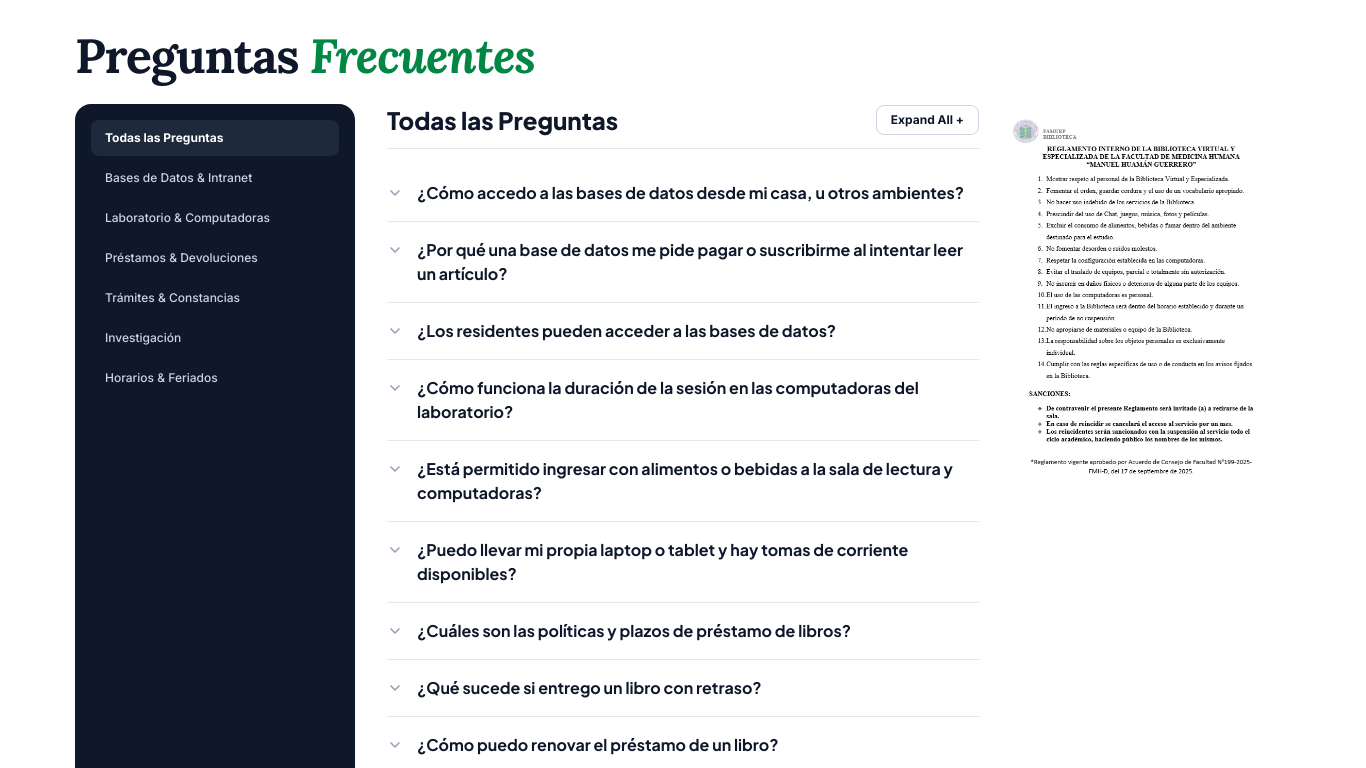
FaqPage and FAQ Data › expands and collapses an accordion question on click
The image size is (1366, 768).
Click the button "¿Cómo accedo a las bases de datos desde mi casa, u otros ambientes?" at (683,193), box [387, 181, 979, 205]
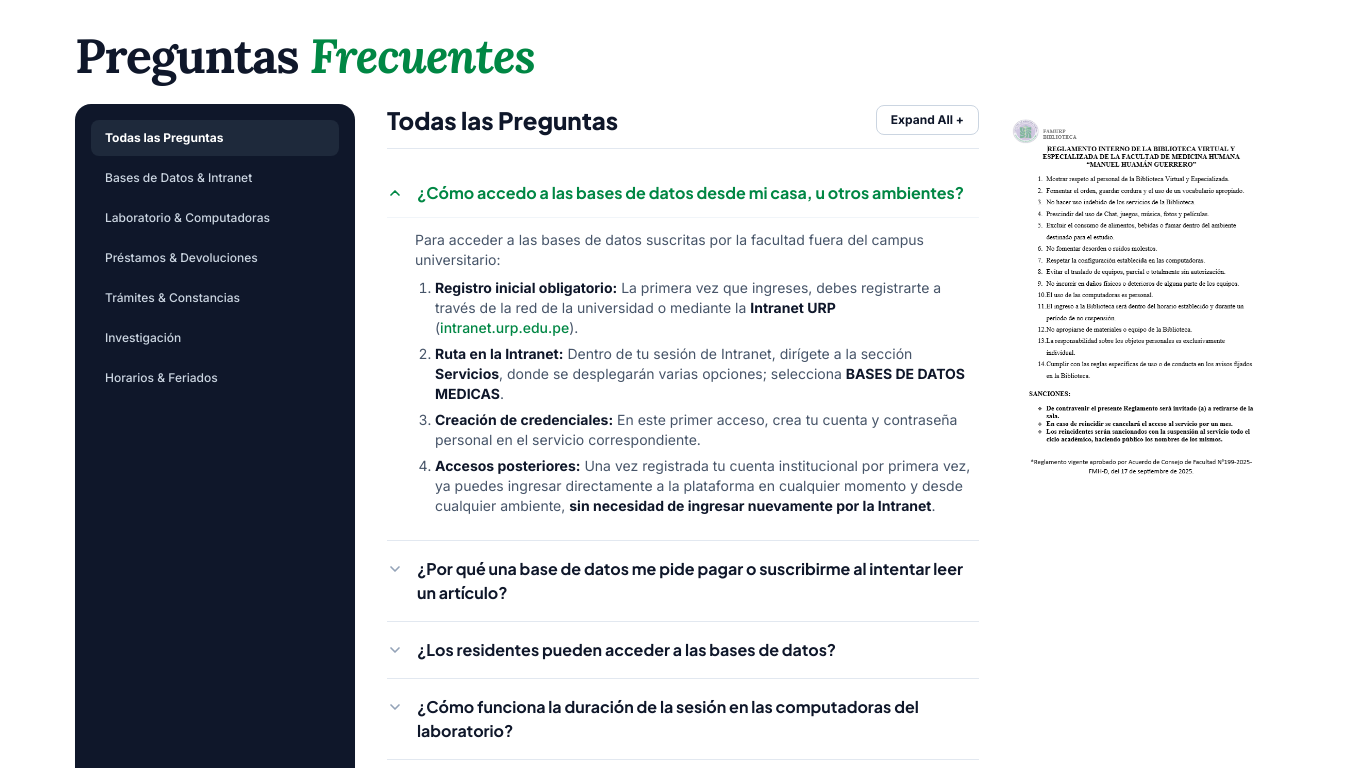
Expected: the button "¿Cómo accedo a las bases de datos desde mi casa, u otros ambientes?" is expanded
Click the button "¿Cómo accedo a las bases de datos desde mi casa, u otros ambientes?" at (683,193), box [387, 181, 979, 205]
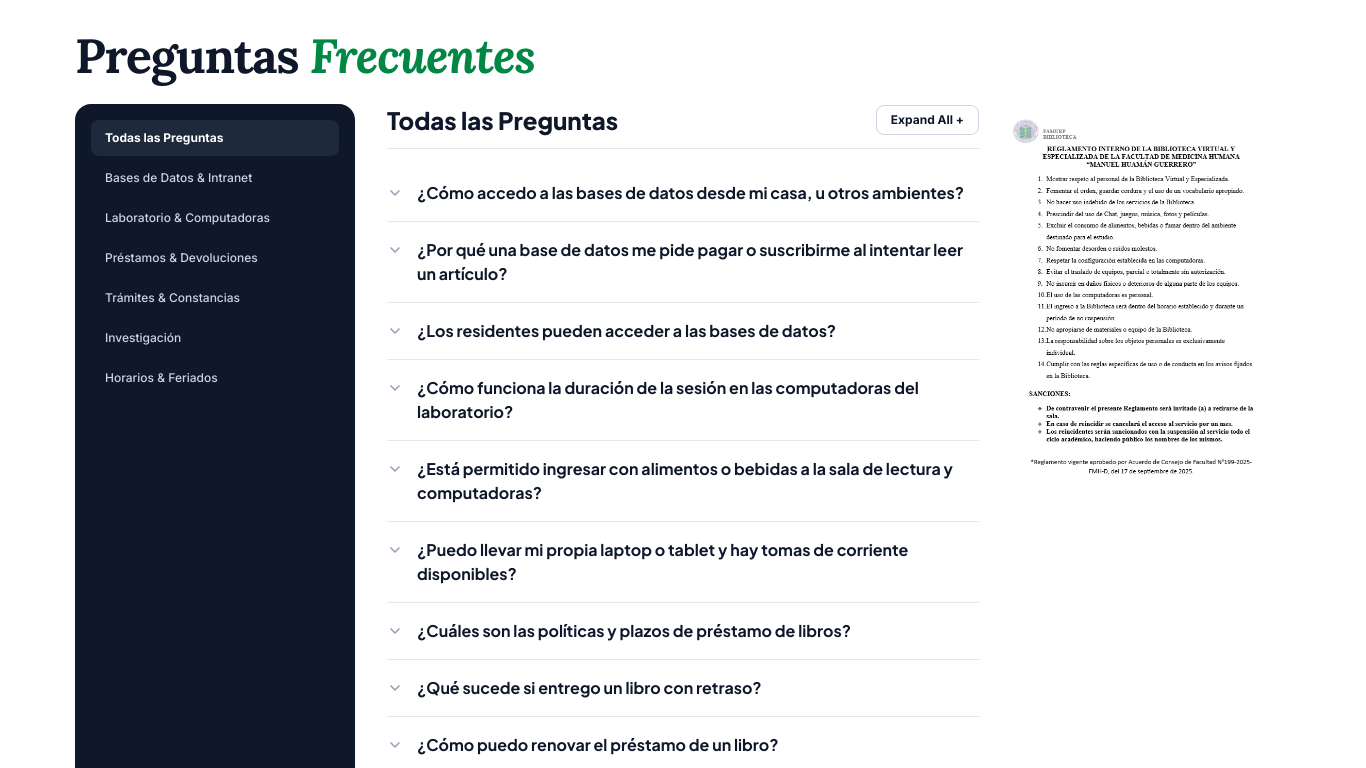
Expected: the button "¿Cómo accedo a las bases de datos desde mi casa, u otros ambientes?" is collapsed, [387, 181, 979, 205]
